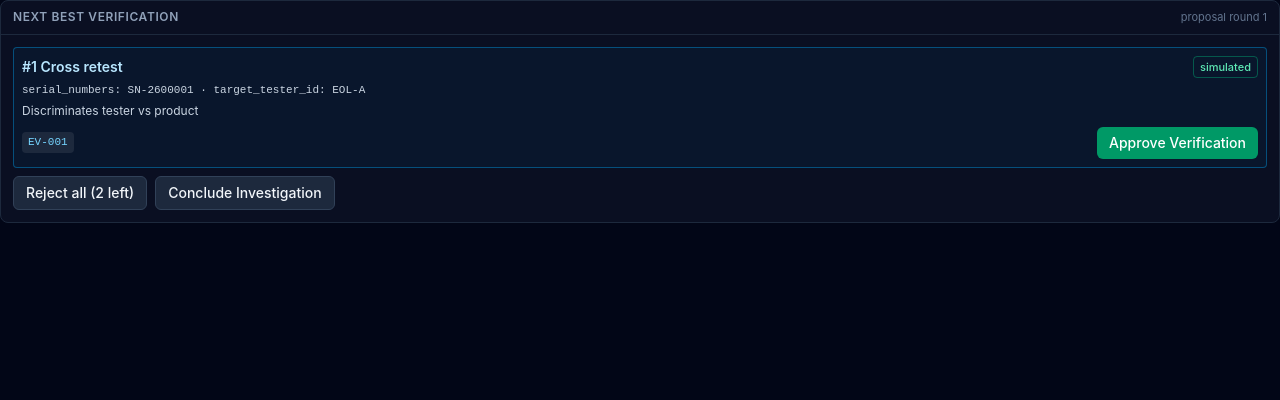
decision panel › requires a reason before rejecting all
Click the button "Reject all (2 left)". click: (80,192)
box: [13,176,147,210]
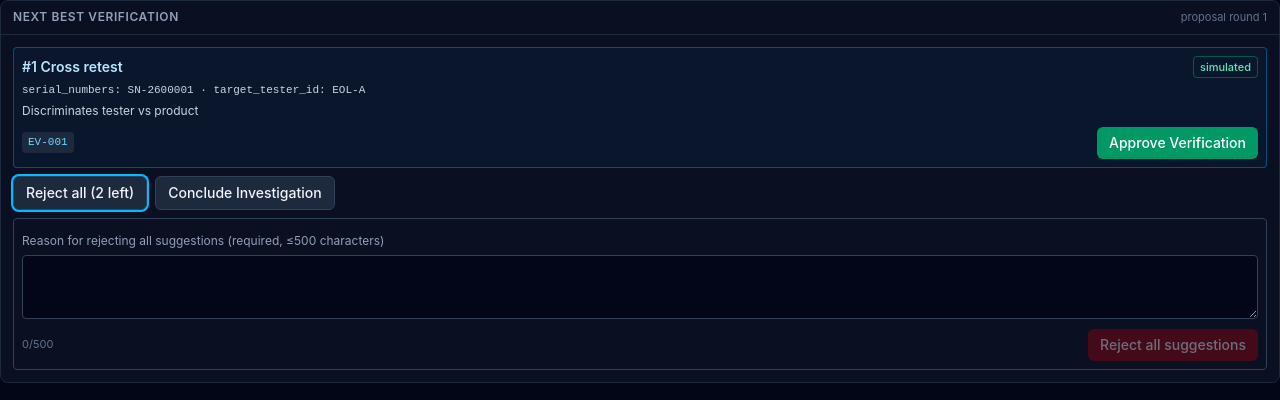
Check: the button "Reject all suggestions" is disabled, box [1088,328,1258,360]
Type "check the reference sample first" into the text box labelled "Reason for rejecting". click: (640,286)
box: [22,254,1258,318]
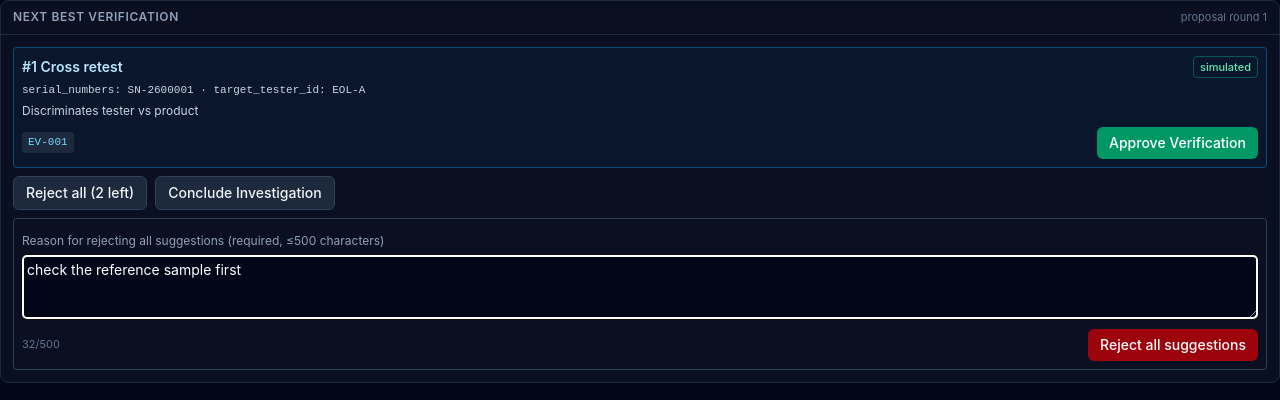
Check: the button "Reject all suggestions" is enabled, box [1088,328,1258,360]
